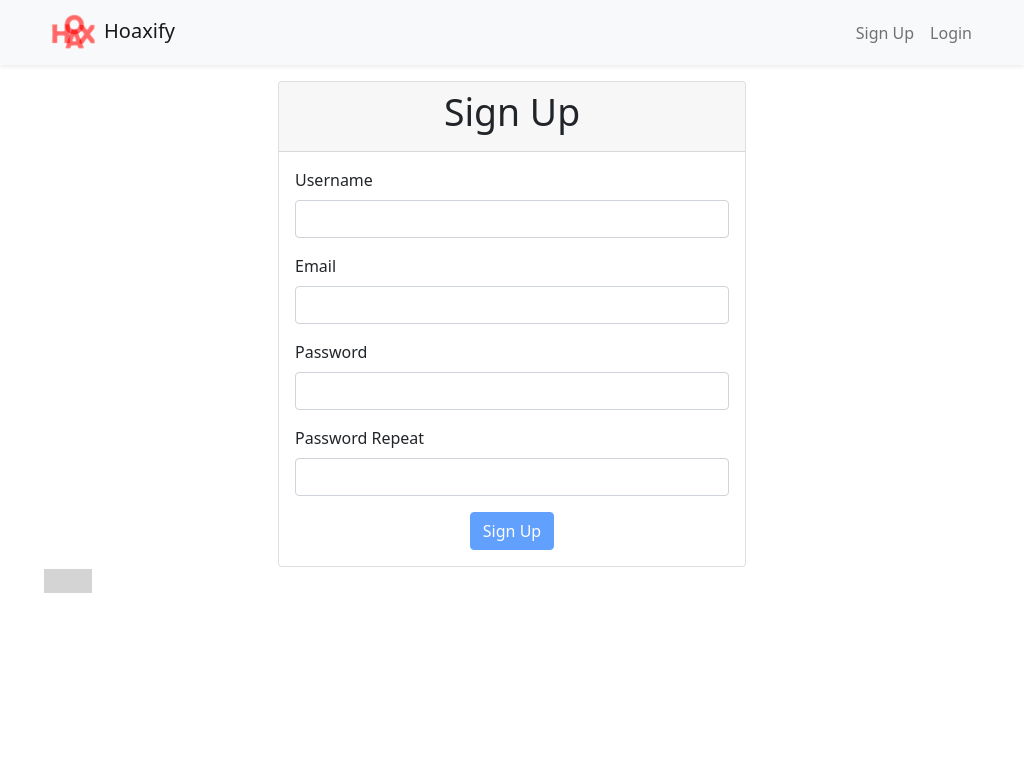
Scenario: Routing › displays login-page page after clicking Login
This screenshot has width=1024, height=768.
Click the link "Login": click(951, 33) 930,22 -> 972,44
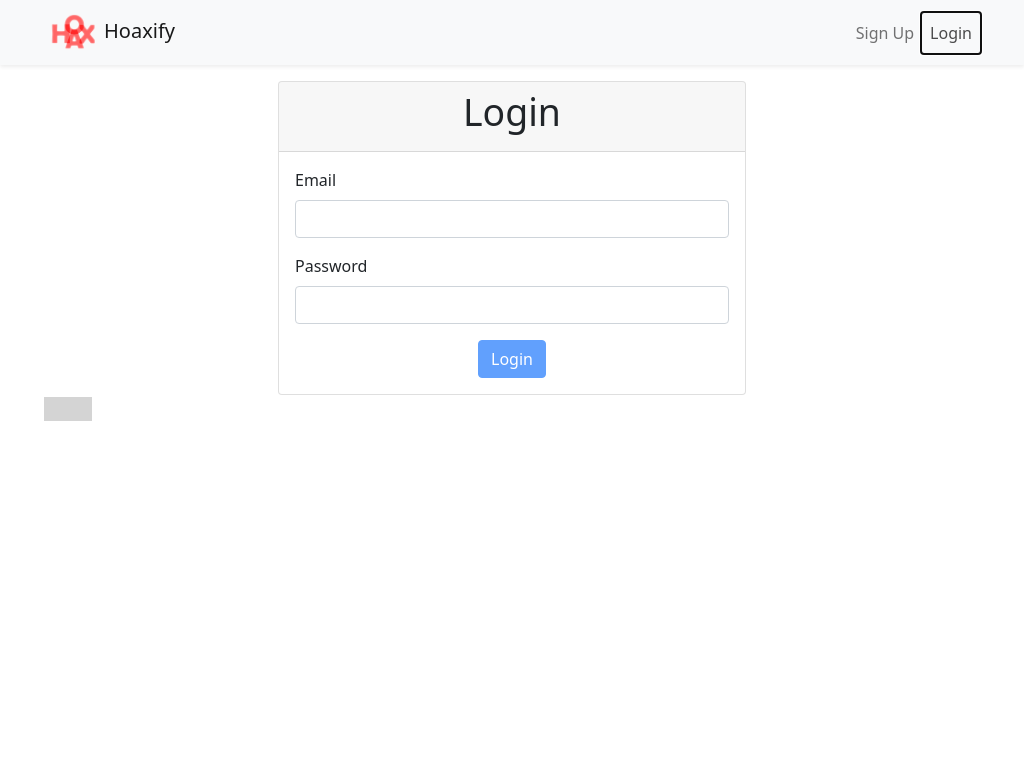
Now the element with test id "login-page" is shown, box 278,81 -> 746,395
